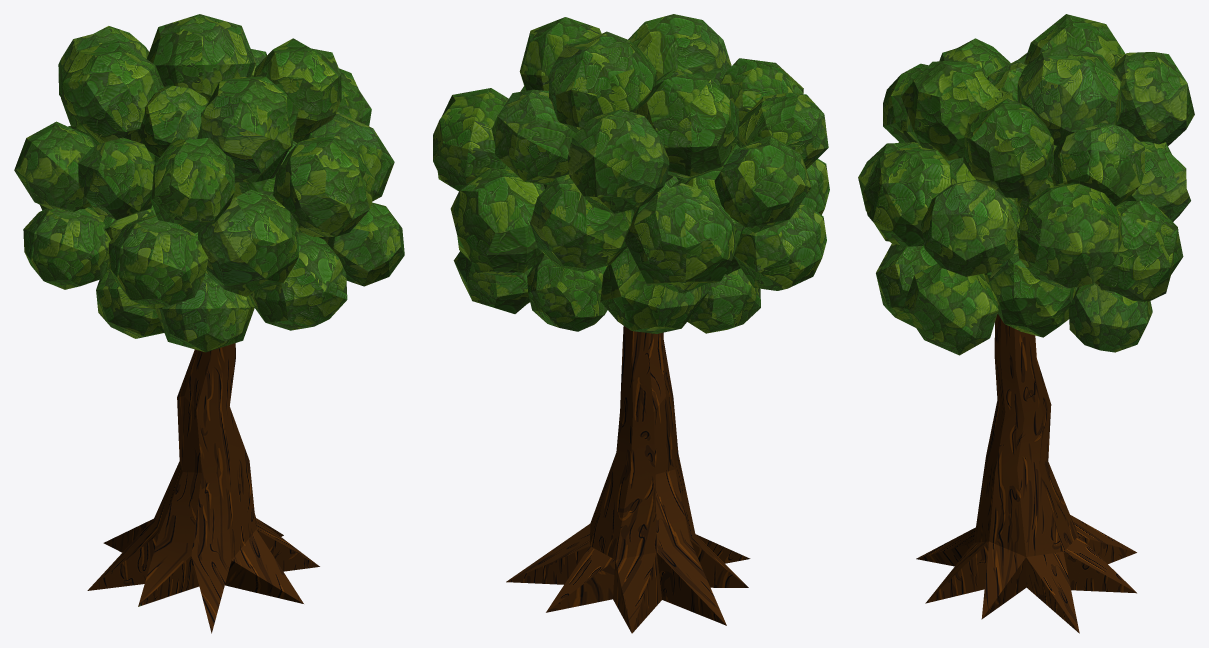
File: OptimisedTree3.fbx
3 renders of one model, left to right at view 1: azimuth 30°, elevation 25°; view 2: azimuth 150°, elevation 25°; view 3: azimuth 270°, elevation 25°, orthographic. The views are drawn at different scales.
Parts seen in each view (by area): view 1: OptimisedTree3; view 2: OptimisedTree3; view 3: OptimisedTree3.
Part boxes in pixels (x1,y1,x2,y2): OptimisedTree3: [14, 14, 404, 633]; OptimisedTree3: [433, 14, 829, 633]; OptimisedTree3: [858, 14, 1194, 633].
Size of the model in its own units: 4.25 by 6.28 by 3.57.
1 material, 1 textured.
